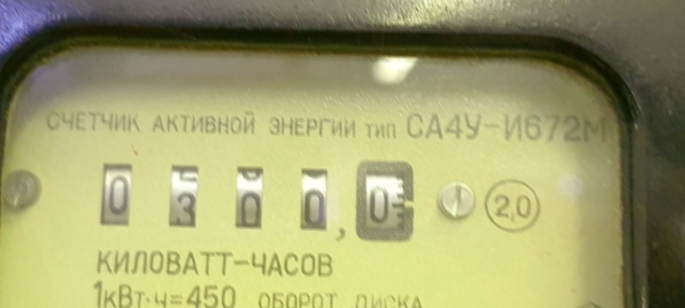0: (299, 185, 324, 229), (363, 182, 388, 225), (104, 170, 127, 216), (235, 187, 259, 228)
3: (171, 188, 194, 227)
screen: (77, 139, 431, 257)
